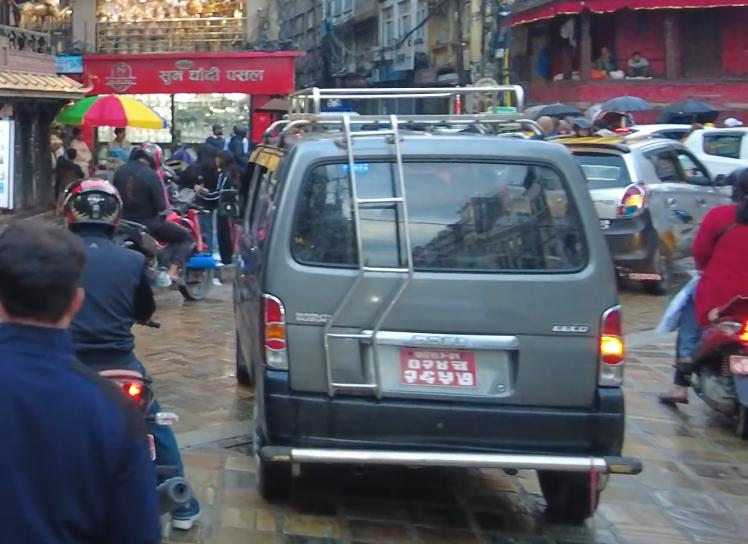van: (218, 71, 648, 524)
